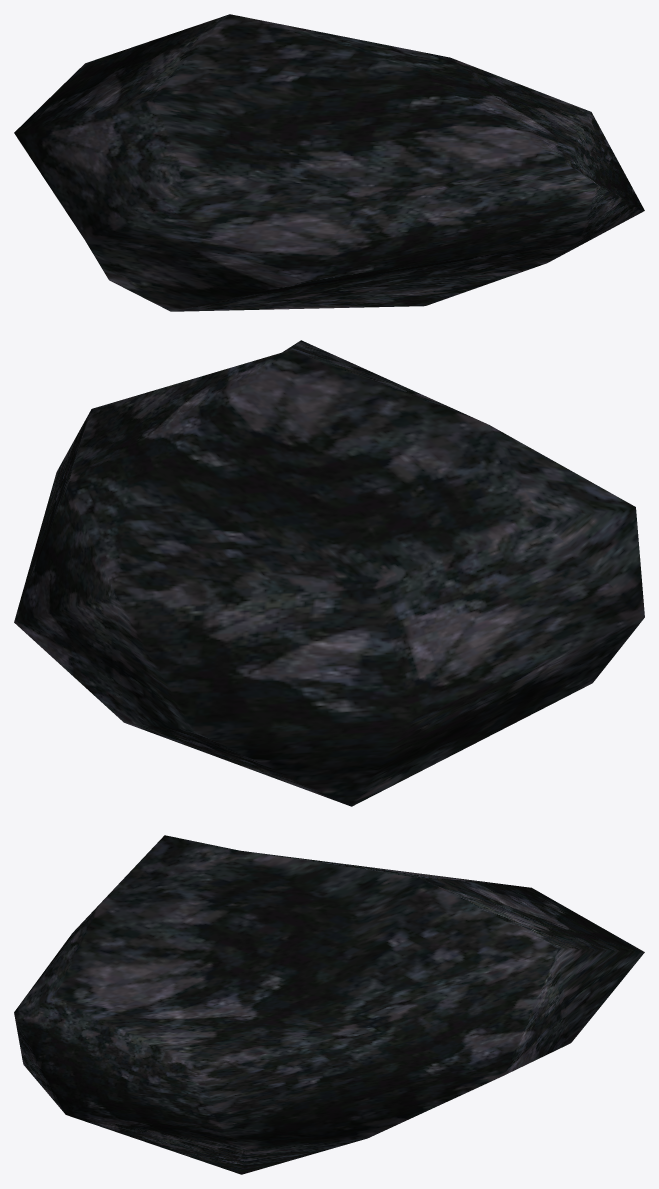
Rendered from asteroid_obsidian_radial_s01_l2.fbx.
The picture shows the model from 3 angles, top to bottom: view 1: azimuth 30°, elevation 25°; view 2: azimuth 150°, elevation 25°; view 3: azimuth 270°, elevation 25°; orthographic projection. The views are drawn at different scales.
Parts seen in each view (by area): view 1: mesh_node; view 2: mesh_node; view 3: mesh_node.
Part boxes in pixels (x1,y1,x2,y2): mesh_node: [14, 14, 644, 311]; mesh_node: [14, 340, 644, 806]; mesh_node: [14, 835, 644, 1174].
Size of the model in its own units: 5.04 by 1.89 by 5.27.
Materials: 1 (1 with a texture image).
